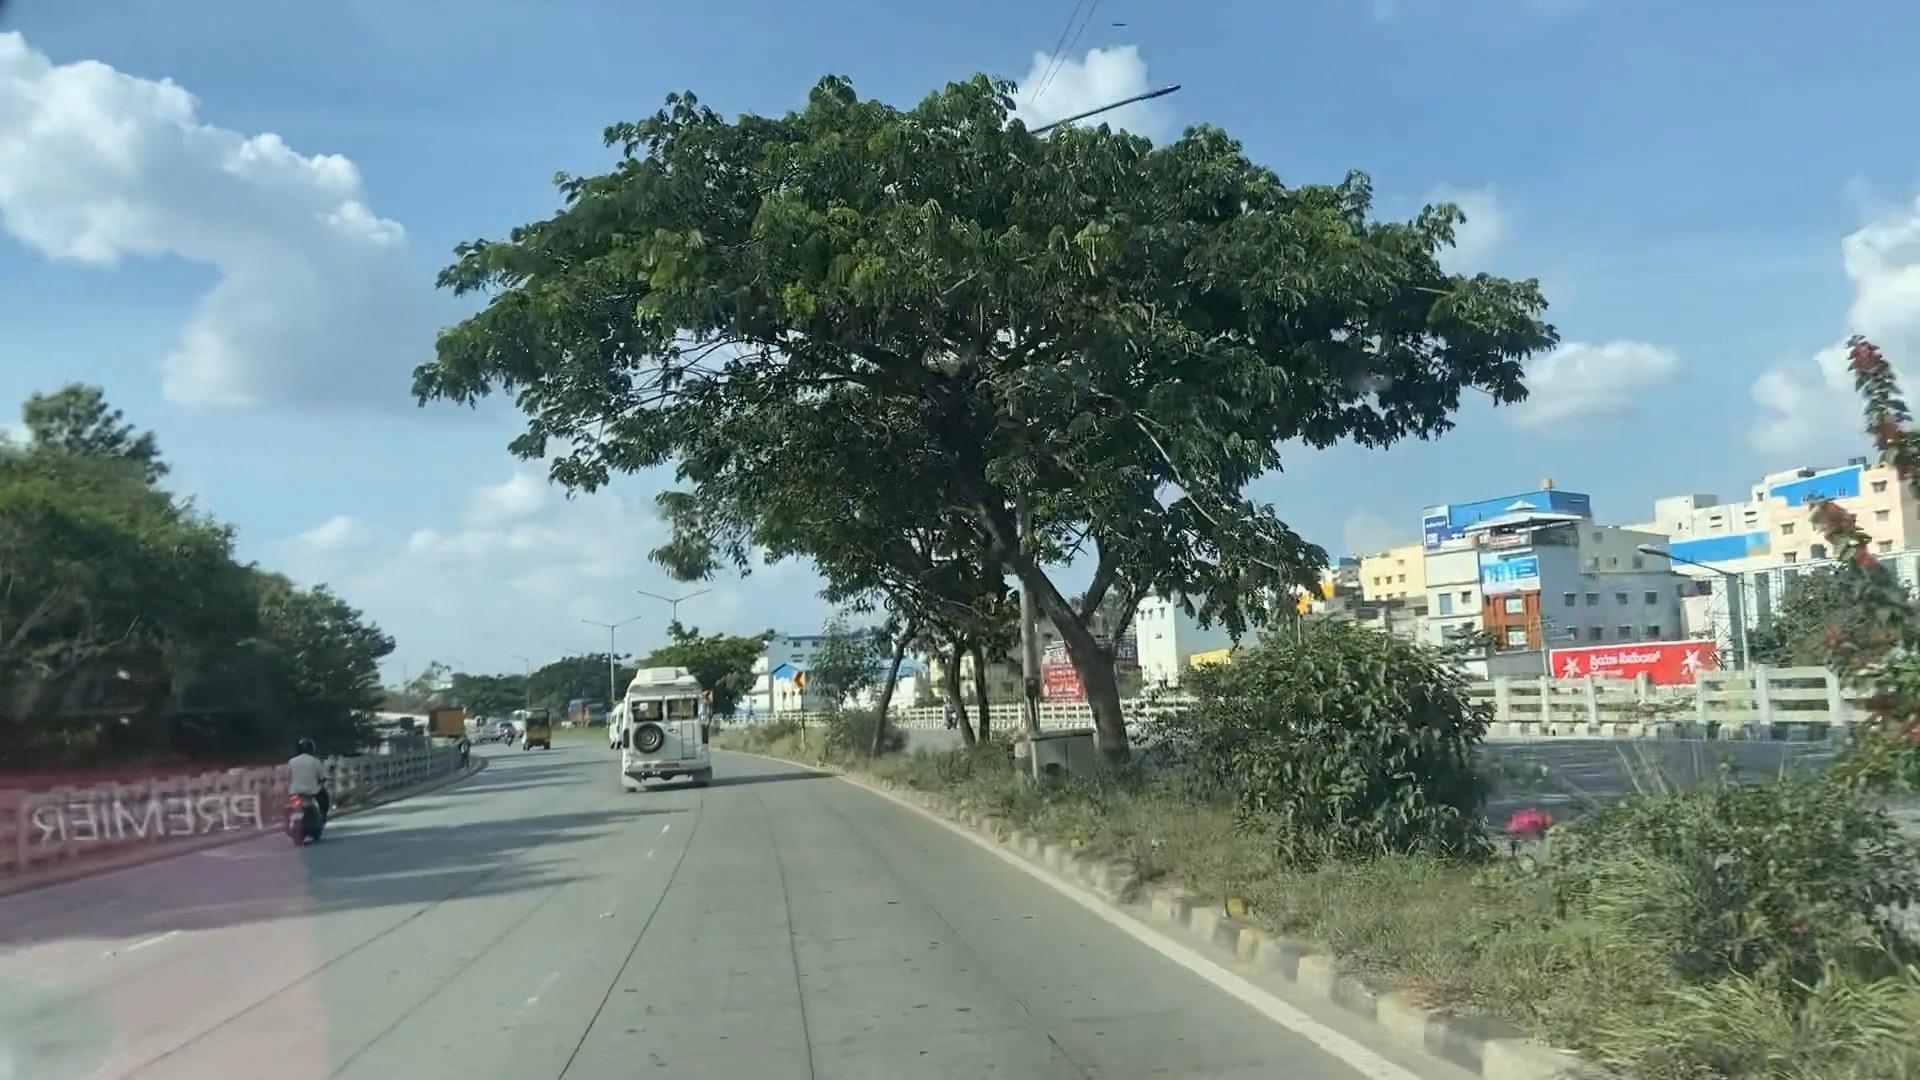HMV: (604, 652, 718, 792)
LMV: (276, 720, 332, 840)
